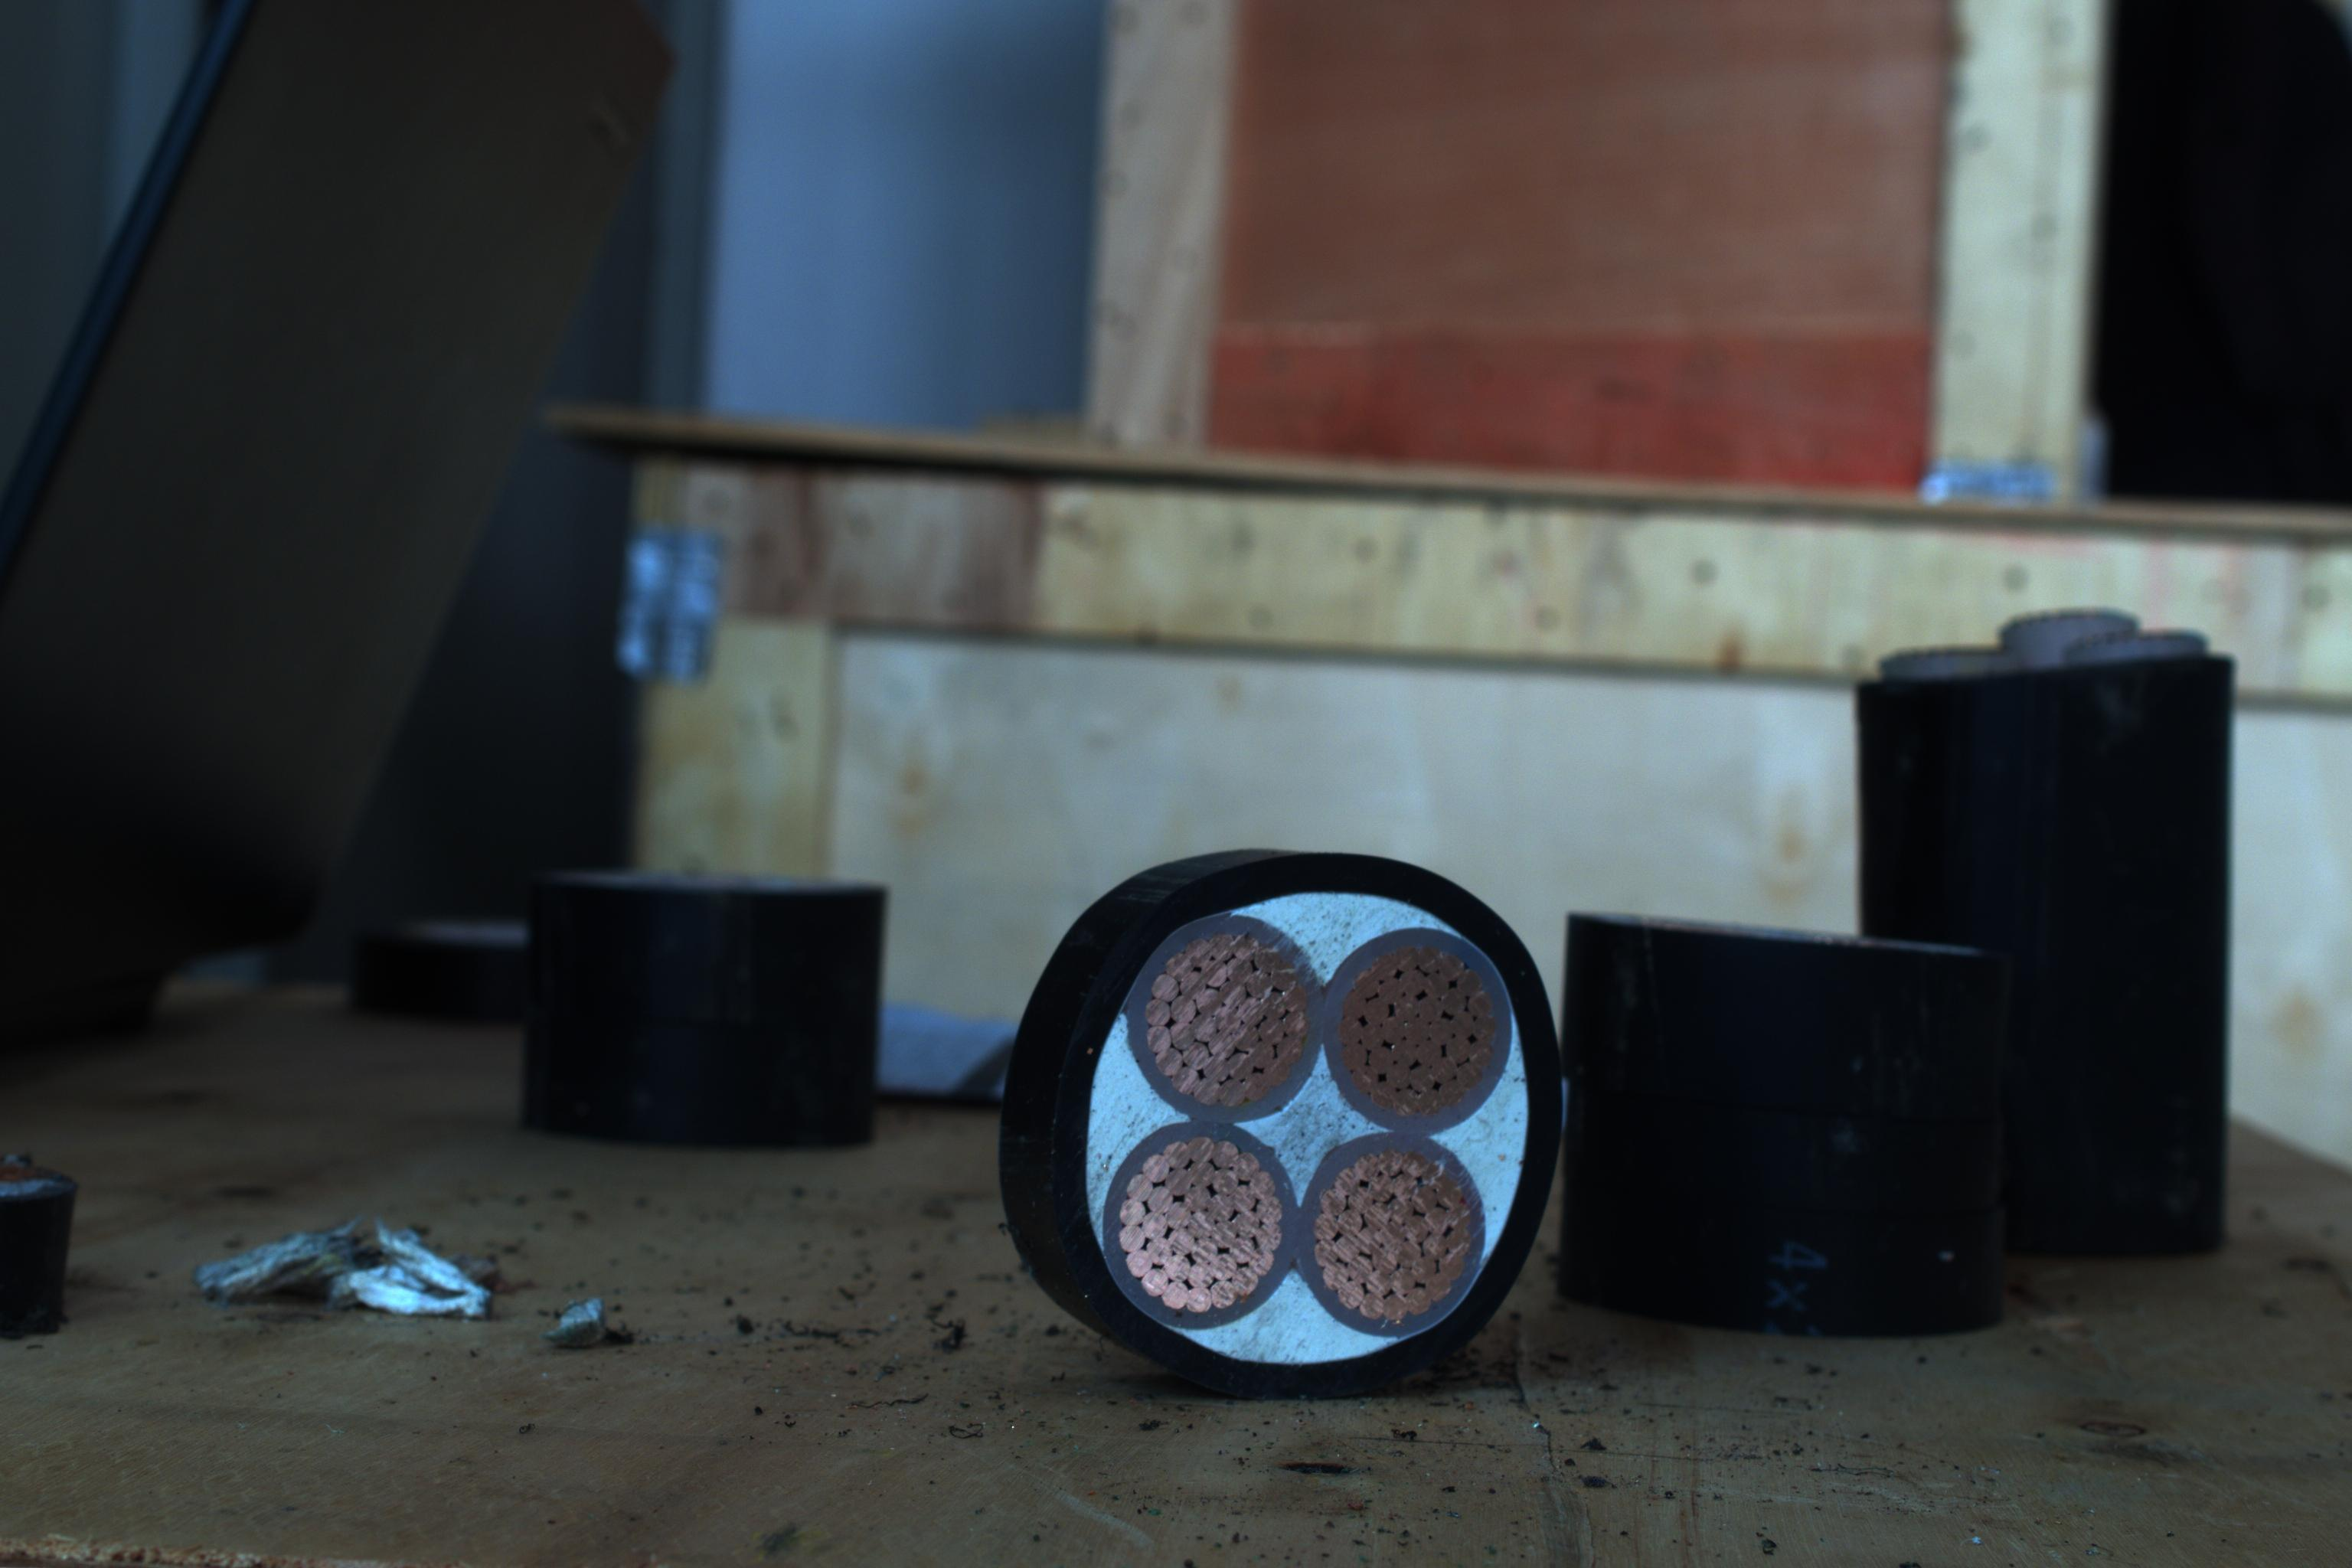YJV_0.6_1kV_4x240: (1032, 840, 1580, 1374)
